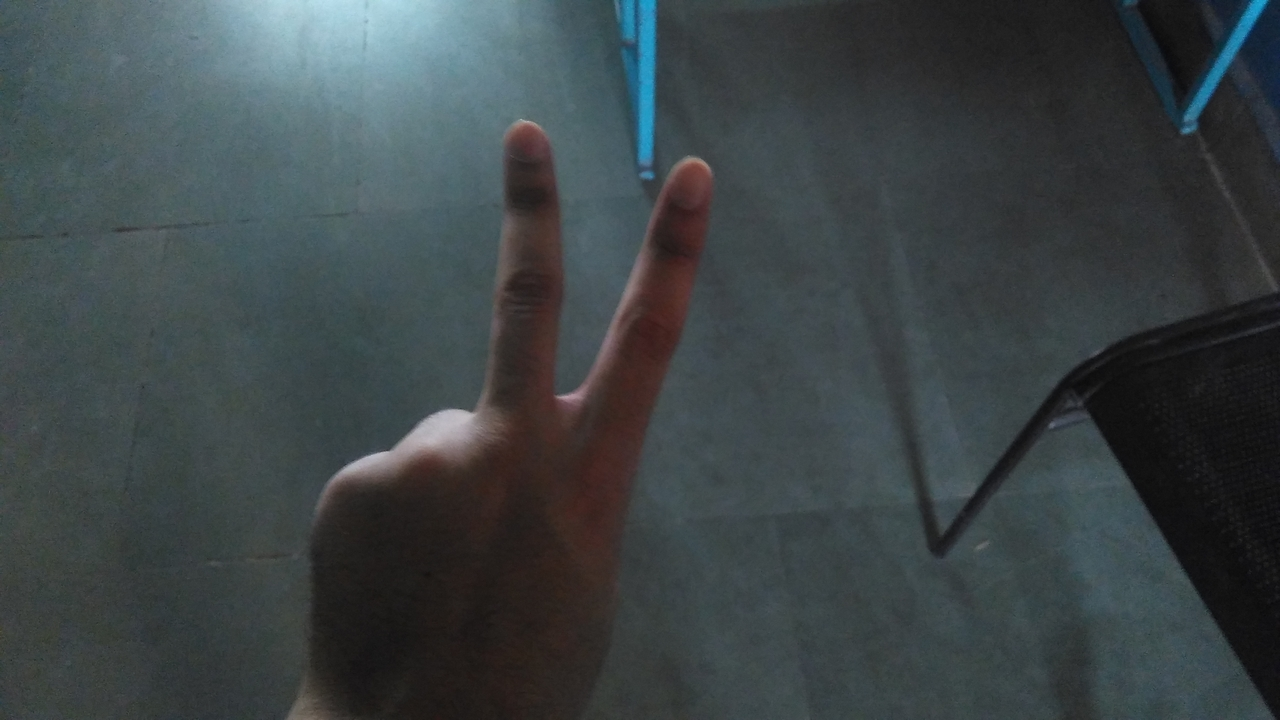fingertip: (654, 150, 718, 212), (496, 114, 558, 174)
